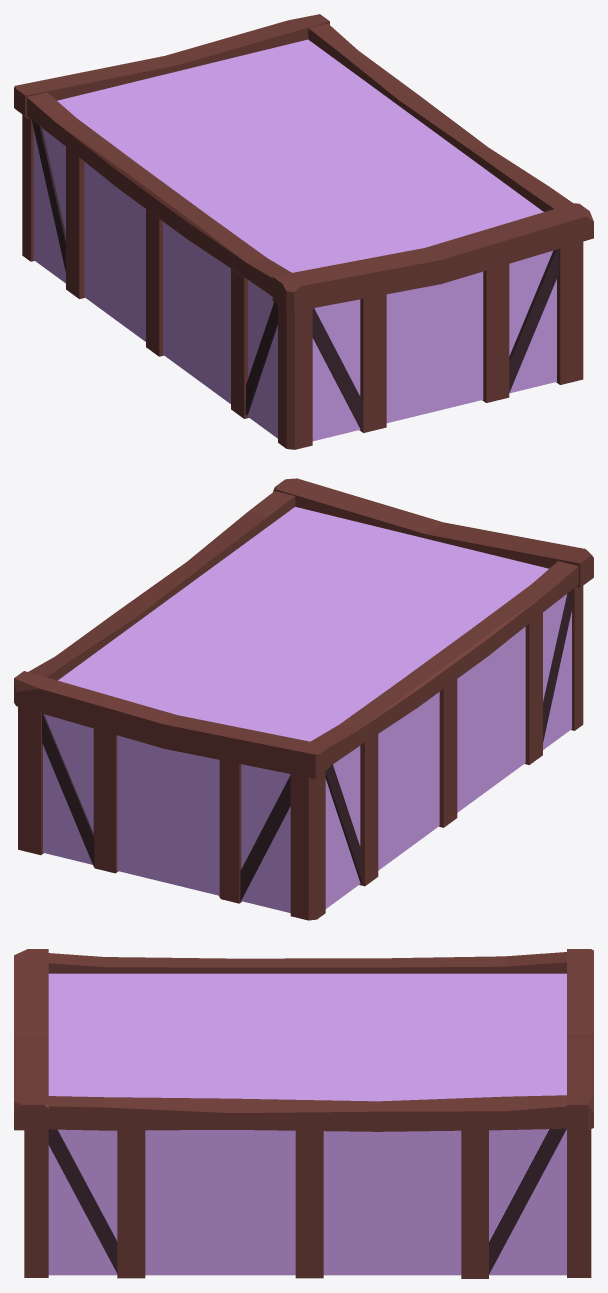
File: BuildingBase_01.fbx
3 renders of one model, top to bottom at view 1: azimuth 30°, elevation 25°; view 2: azimuth 150°, elevation 25°; view 3: azimuth 270°, elevation 25°, orthographic. The views are drawn at different scales.
Visible parts, largest first — view 1: BuildingBase_01; view 2: BuildingBase_01; view 3: BuildingBase_01.
Boxes of the visible parts, box(x1,y1,x2,y2) form: BuildingBase_01: box(14, 14, 593, 449); BuildingBase_01: box(14, 478, 593, 920); BuildingBase_01: box(14, 949, 593, 1278).
Size of the model in its own units: 672 by 353 by 1055.
